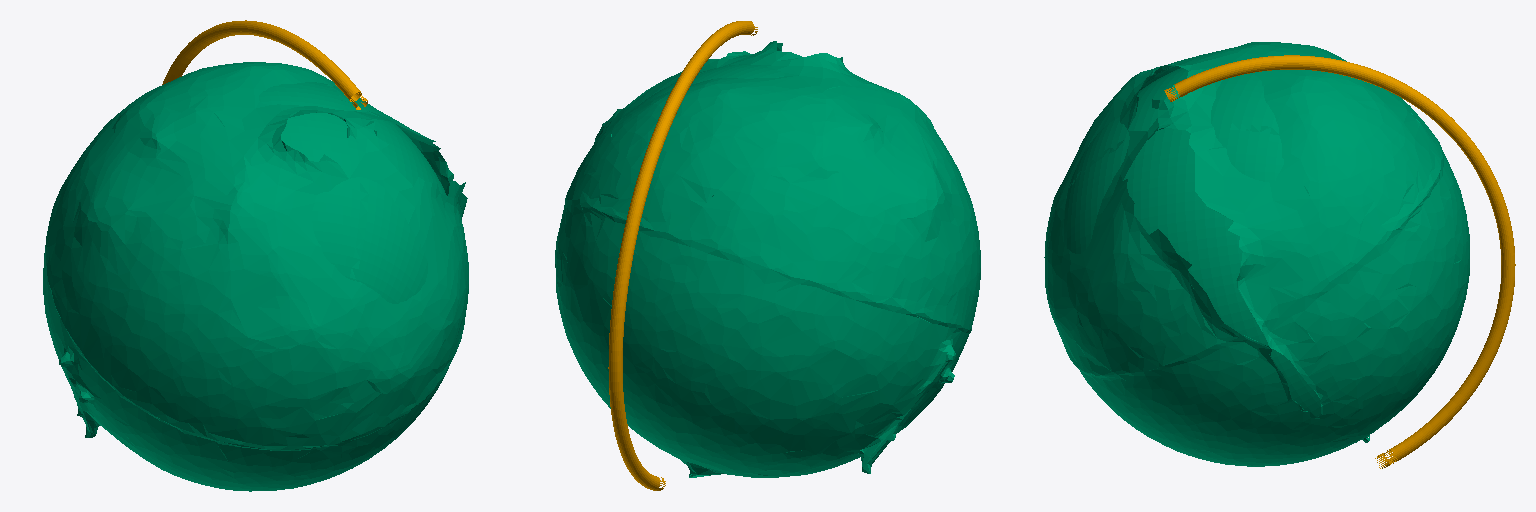
The robot description file, URDF, robot "globe":
<?xml version="1.0"?>
<robot name="globe">
  <link name ="rb0">
    <visual>
      <origin xyz='0.134201 0.028644 -0.201127' rpy='1.544267 -1.265865 -1.388046'/>
      <geometry>
        <mesh filename="package://articulated_objects_db/data/objects/globe/meshes/globe_base.obj"  scale="1 1 1" />
      </geometry>
    </visual>
  </link>
  <joint name="j_0_1" type="revolute">
    <parent link="rb0"/>
    <child link="rb1"/>
    <origin xyz="0.112827626961 0.0769681379313 -0.26023652027" rpy="0 0 0 "/>
    <axis xyz="0.0692656093156 -0.417084054731 0.906224677801"/>
    <limit effort="30" velocity="1.0" lower="-3.1416" upper="3.1416"/>
  </joint>
  <joint name="j_0_fixed" type="fixed">
    <parent link="rb1"/>
    <child link="rb1_marker"/>
      <origin xyz="-0.184778028883 -0.000950895735824 0.0135191242097" rpy="0.96920987265 0.338639521178 -2.21123982949"/>
    <limit effort="30" velocity="1.0" lower="-3.1416" upper="3.1416"/>
  </joint>
  <link name ="rb1">
  </link>
  <link name ="rb1_marker">
    <visual>
      <origin xyz='-0.049149 0.089968 -0.112483' rpy='3.012065 1.349311 -3.110684'/>
      <geometry>
        <mesh filename="package://articulated_objects_db/data/objects/globe/meshes/globe_sphere.obj"  scale="1 1 1" />
      </geometry>
    </visual>
  </link>
</robot>

--- Render facts (derived) ---
Views: 3 orthographic renders of the robot side by side, from view 1: azimuth 30°, elevation 25°; view 2: azimuth 150°, elevation 25°; view 3: azimuth 270°, elevation 25°.
Model globe with 3 links and 2 joints (1 revolute, 1 fixed), rooted at rb0, posed all joints at 0.
Visible links, largest first — view 1: rb1_marker, rb0; view 2: rb1_marker, rb0; view 3: rb1_marker, rb0.
Boxes of the visible links, x1,y1,x2,y2 form: rb1_marker: (43, 62, 468, 491); rb0: (162, 20, 367, 109); rb1_marker: (555, 41, 980, 477); rb0: (608, 21, 757, 490); rb1_marker: (1044, 42, 1469, 466); rb0: (1164, 55, 1515, 468).
Size in the robot's own frame: 0.3112 by 0.3317 by 0.3213 metres.
2 mesh visuals loaded from 2 distinct referenced files (2 OBJ).